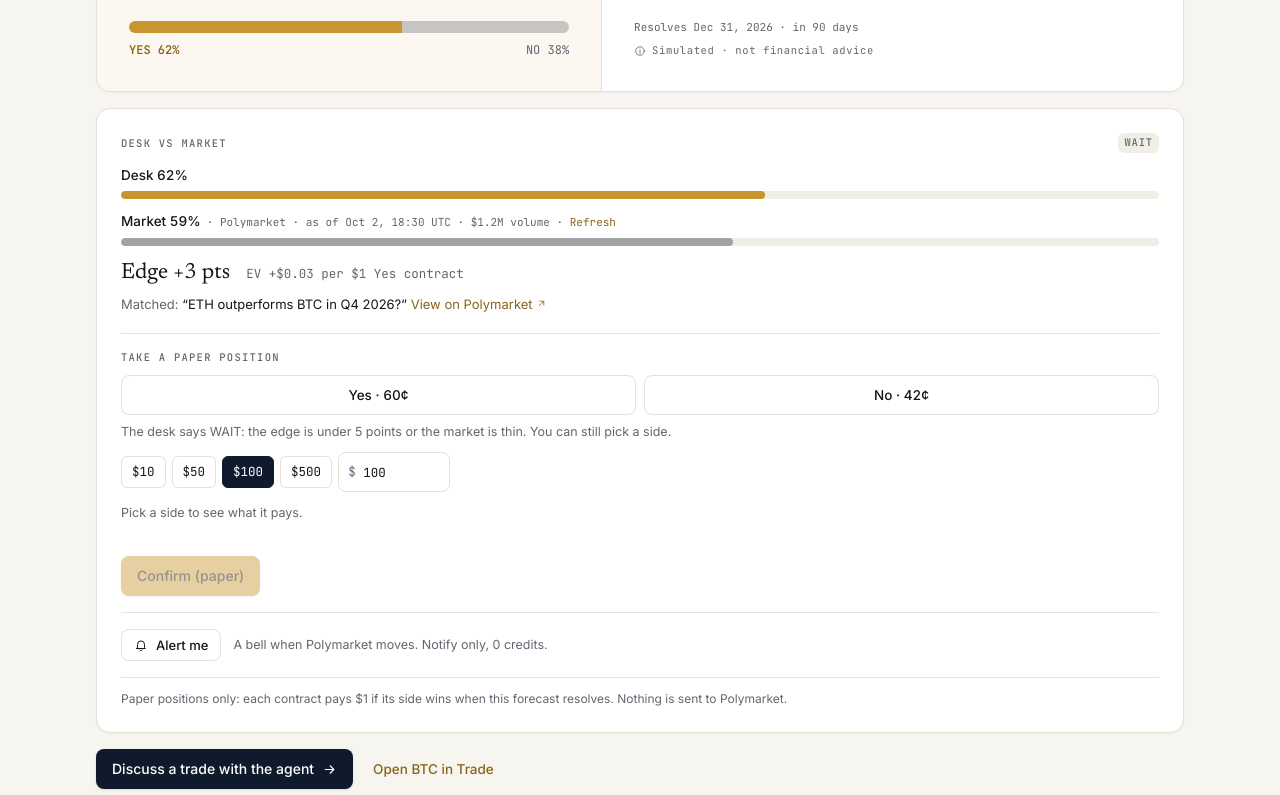
Test: DeskVsMarket · Take a paper position › starts with no side when the desk says WAIT and keeps Confirm disabled until one is picked
(page scrolled)
expect the element "Take a paper position" is shown: met, box [121,333,1159,596]
expect the element "Take a paper position" shows "The desk says WAIT: the edge is under 5 points or the market is thin. You can still pick a side.": met, box [121,424,671,439]
Click the button "No · 42¢".
click(902, 395)  # box [644,375,1159,415]
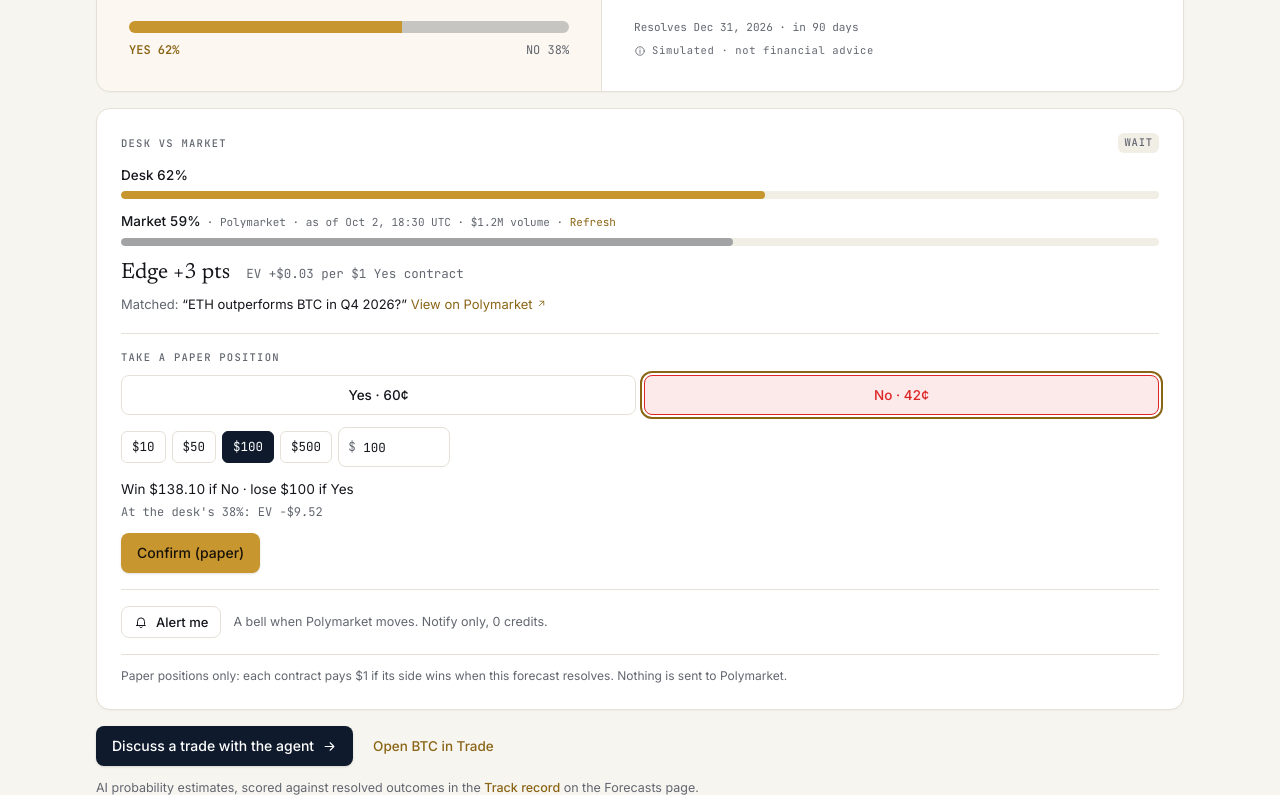
expect the button "Confirm (paper)" is enabled: met, box [121,533,260,573]
expect the element "Take a paper position" no longer shows "The desk says WAIT": met, box [121,333,1159,573]
